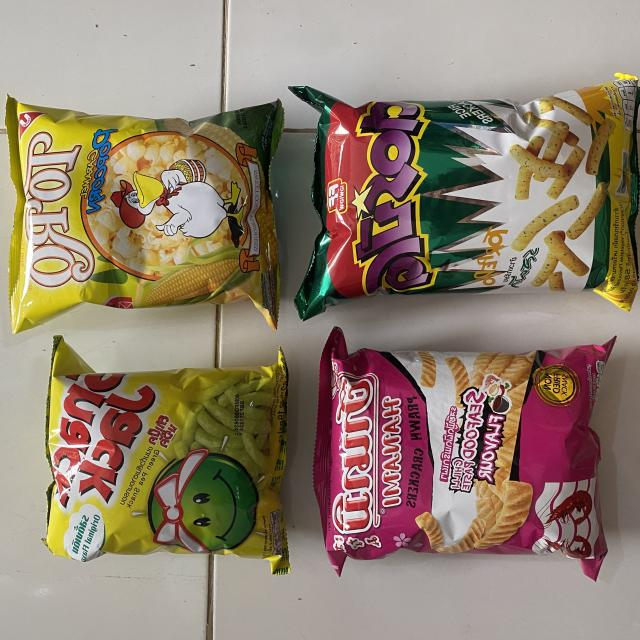plastik: (291, 75, 640, 320), (315, 327, 616, 579), (6, 98, 283, 333), (46, 335, 290, 574)
